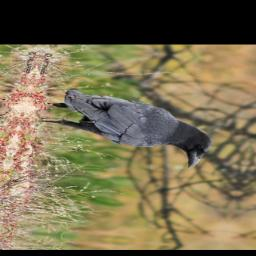Crow: (25, 86, 225, 169)
